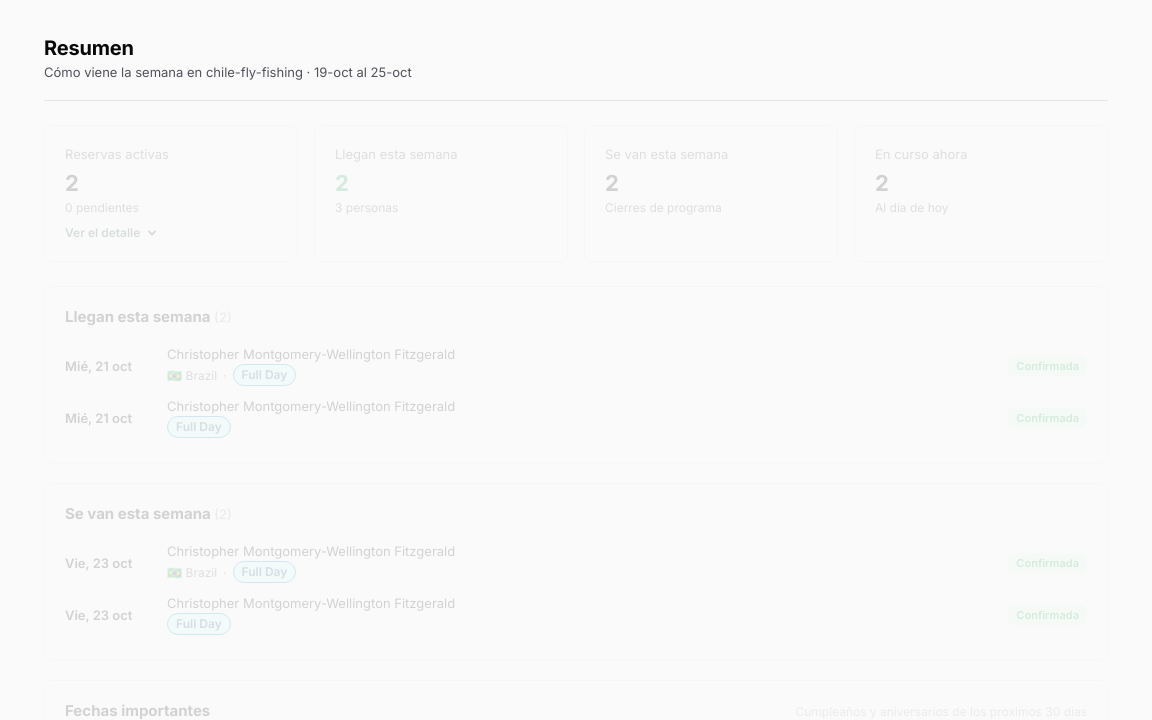
Test case: PmsResumen: personas de la semana con PartyMembers en texto › suma como número: «1» + «2» = 3 personas, y la fila dice «1 p.»
Click the button "Reservas activas 2 0 pendientes Ver el detalle": (171,194) x1=44 y1=125 x2=298 y2=262
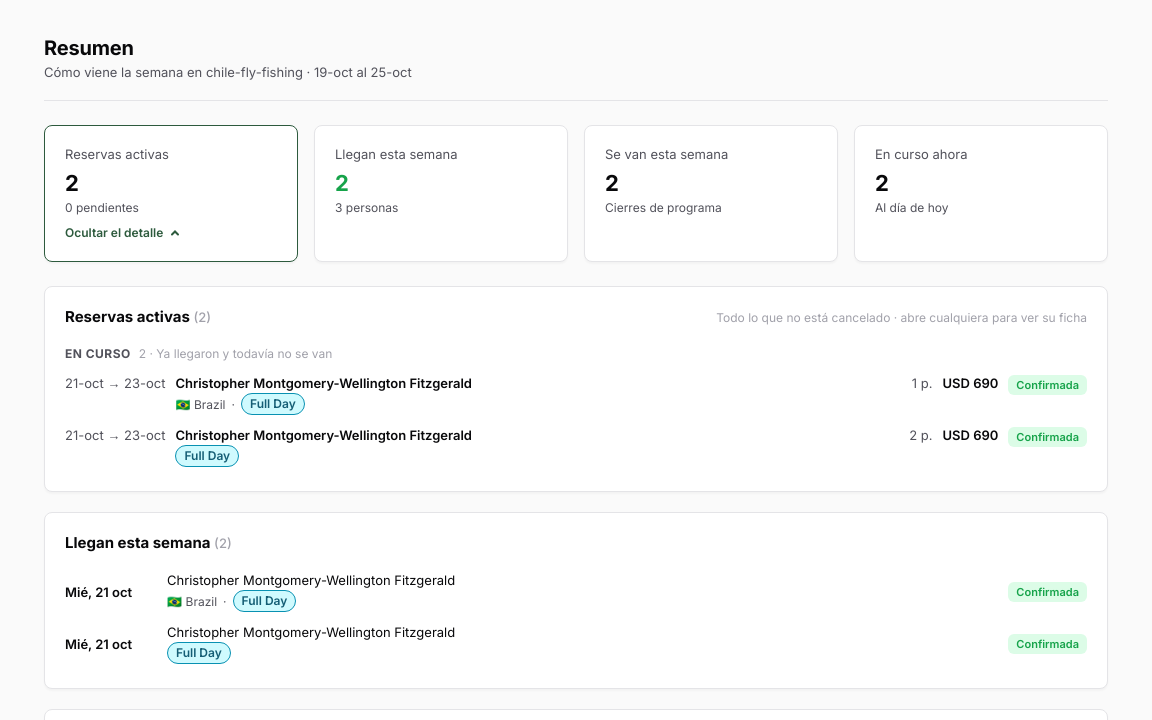
Check: the text with class "crm-mini-sub" reads "3 personas", box x1=335 y1=200 x2=398 y2=215
Check: the element that starts with "Reservas activas" shows "1 p.", box x1=44 y1=286 x2=1108 y2=492
